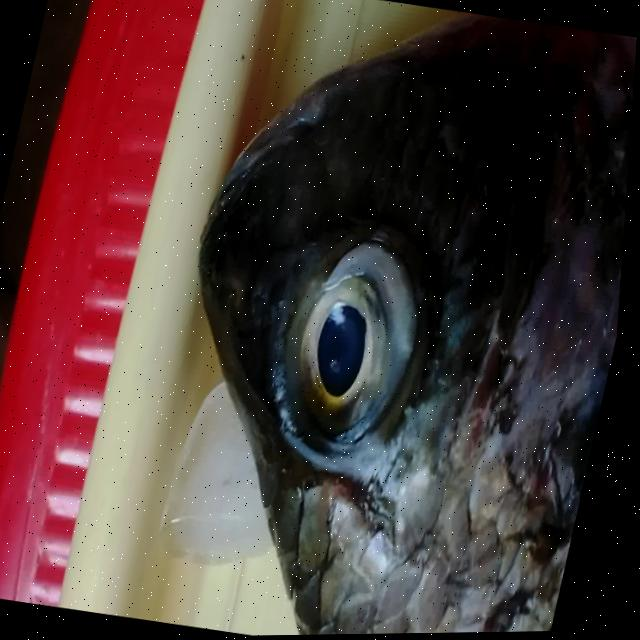Fresh: (244, 193, 456, 497)
